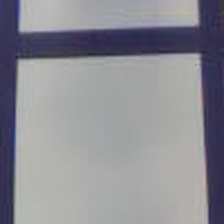empty: (17, 60, 203, 224)
